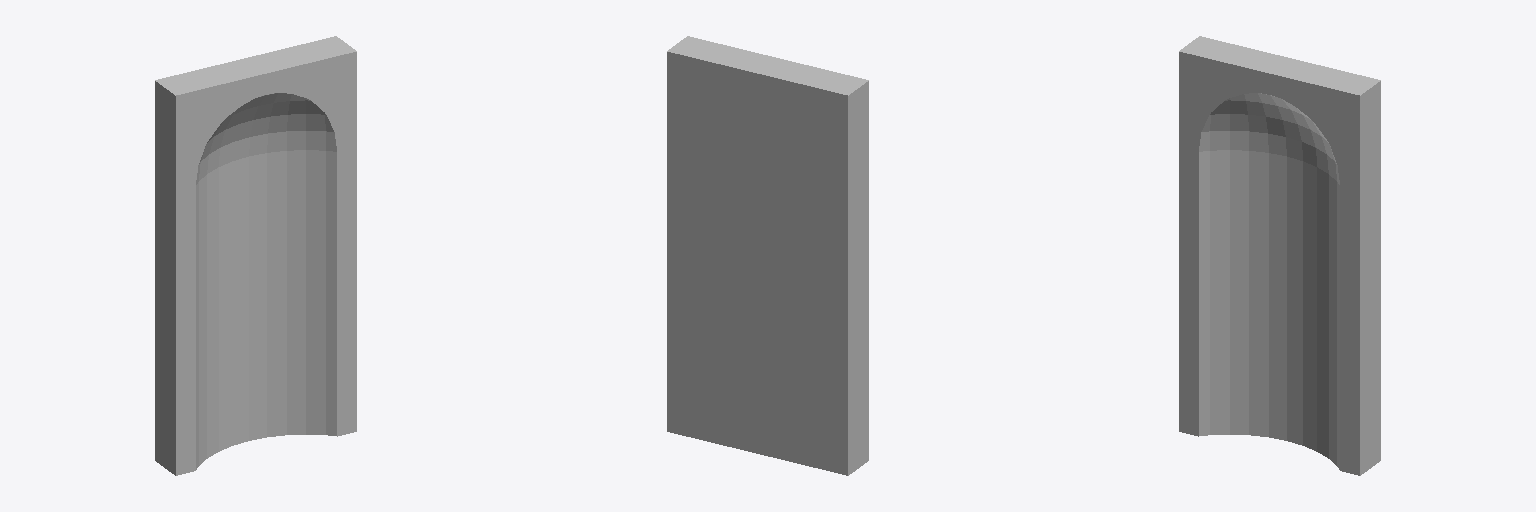
File: wallElement_uved.obj
3 renders of one model, left to right at view 1: azimuth 30°, elevation 25°; view 2: azimuth 150°, elevation 25°; view 3: azimuth 330°, elevation 25°, orthographic.
Parts seen in each view (by area): view 1: Boole Oil_Tank polySurface1, Boole Cube polySurface1; view 2: Boole Cube polySurface1; view 3: Boole Oil_Tank polySurface1, Boole Cube polySurface1.
Boxes of the visible parts, box(x1,y1,x2,y2) form: Boole Oil_Tank polySurface1: box(196, 93, 336, 469); Boole Cube polySurface1: box(155, 36, 356, 475); Boole Cube polySurface1: box(667, 36, 868, 475); Boole Oil_Tank polySurface1: box(1199, 93, 1339, 469); Boole Cube polySurface1: box(1179, 36, 1380, 475).
Size of the model in its own units: 100 by 200 by 20.